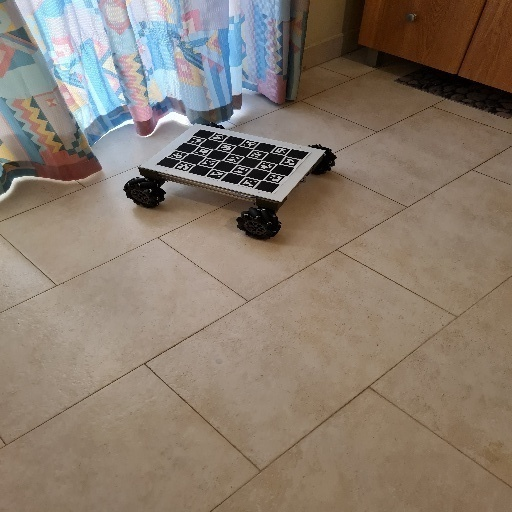Omniwheel: (124, 120, 340, 240)
